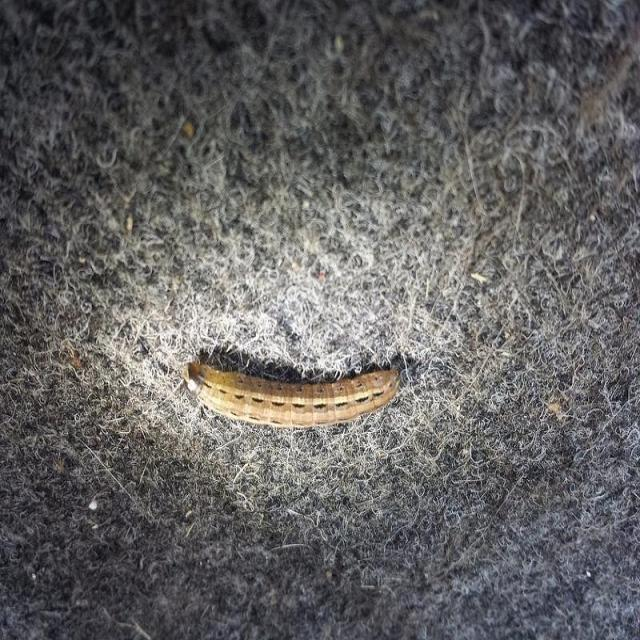army worm: (179, 347, 410, 429)
